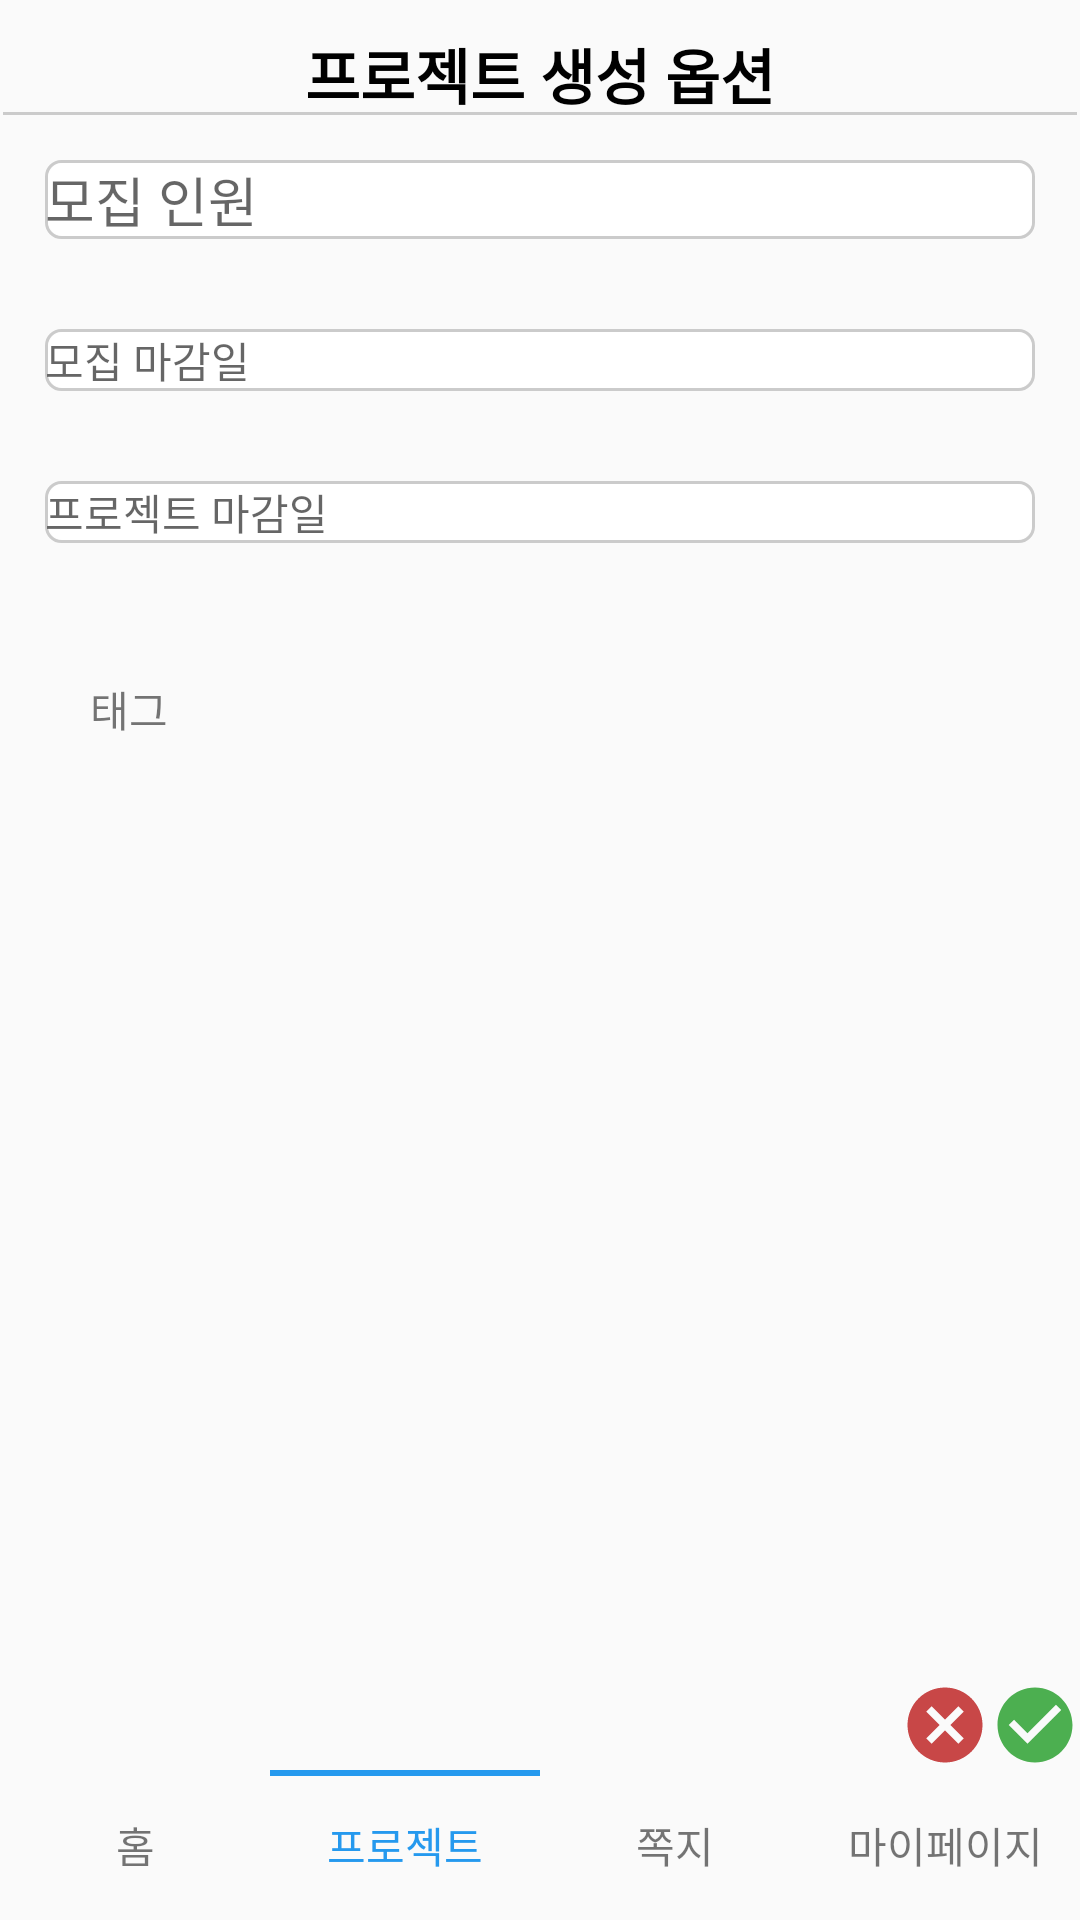

Icons on this 1080px×1920px Android screen, each with its box as bbox=[x1, y1, x2, y2]:
cancel: bbox=[907, 1687, 983, 1763]
check: bbox=[997, 1687, 1073, 1763]
